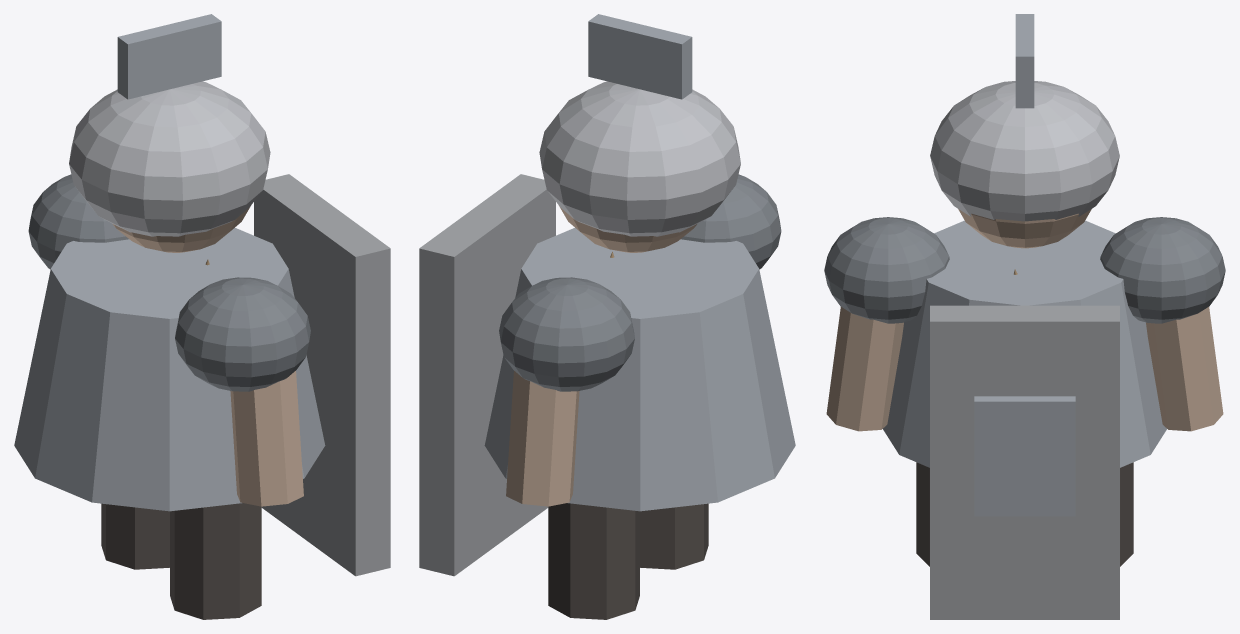
File: hero_brakkar_2.glb
The picture shows the model from 3 angles, left to right: view 1: azimuth 30°, elevation 25°; view 2: azimuth 150°, elevation 25°; view 3: azimuth 270°, elevation 25°; orthographic projection. The views are drawn at different scales.
Visible parts, largest first — view 1: figurka; view 2: figurka; view 3: figurka.
Part boxes in pixels (left/top/right/bottom): figurka: left=14, top=14, right=390, bottom=619; figurka: left=419, top=14, right=795, bottom=619; figurka: left=824, top=14, right=1225, bottom=619.
Bounding box in the file's own units: 0.5395 × 0.894 × 0.6345.
